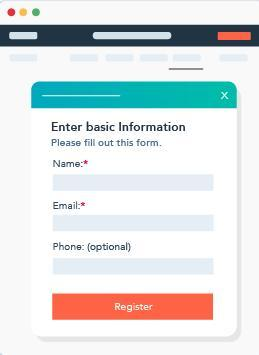button: (54, 294, 215, 322)
input: (54, 174, 216, 193), (54, 215, 216, 233), (54, 258, 215, 276)
label: (52, 240, 133, 255), (52, 201, 81, 212), (53, 159, 84, 169)
